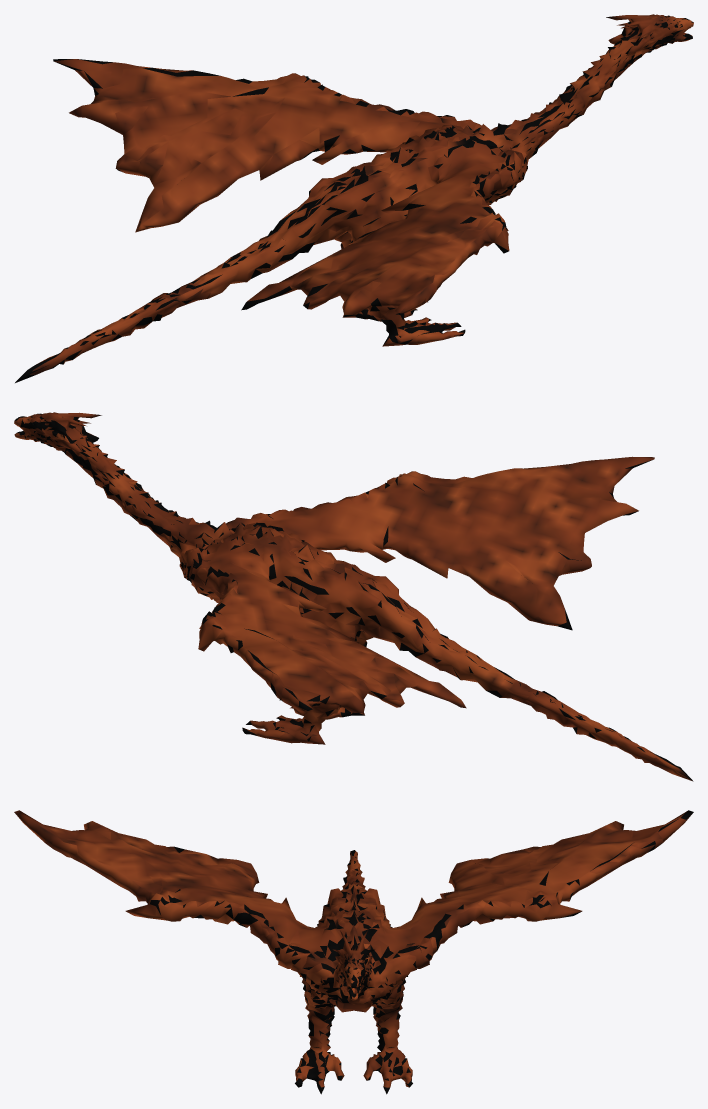
Rendered from Дракон.fbx.
3 renders of one model, top to bottom at view 1: azimuth 30°, elevation 25°; view 2: azimuth 150°, elevation 25°; view 3: azimuth 270°, elevation 25°, orthographic. The views are drawn at different scales.
Parts seen in each view (by area): view 1: smok; view 2: smok; view 3: smok.
Part boxes in pixels (box(x1,y1,x2,y2)): smok: box(15, 14, 693, 382); smok: box(14, 412, 693, 781); smok: box(14, 810, 693, 1094).
Size of the model in its own units: 1.9 by 0.6747 by 1.68.
Materials: 1 (1 with a texture image).
